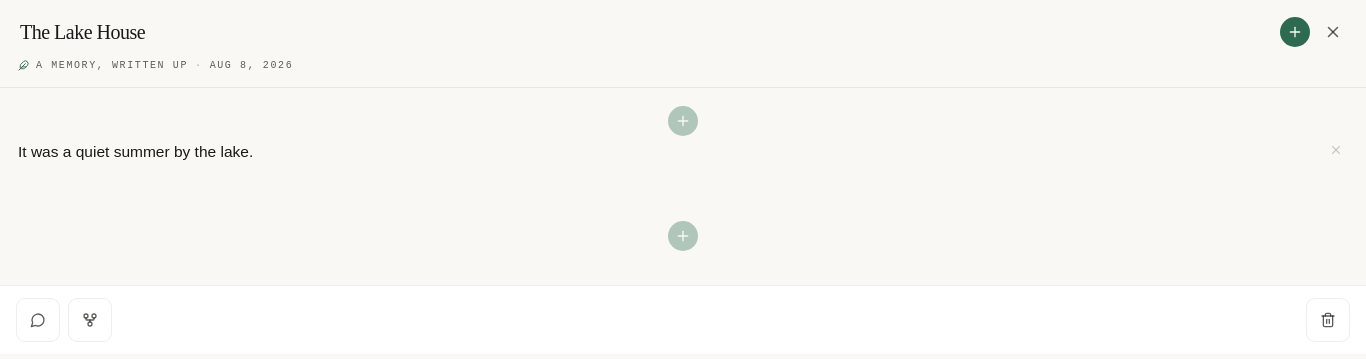
Test: MemoryCardView — header › Escape reverts the draft without committing
Replace the text in the field named "Memory title" with "The Cabin" at (645, 32), box 18,14 -> 1272,50
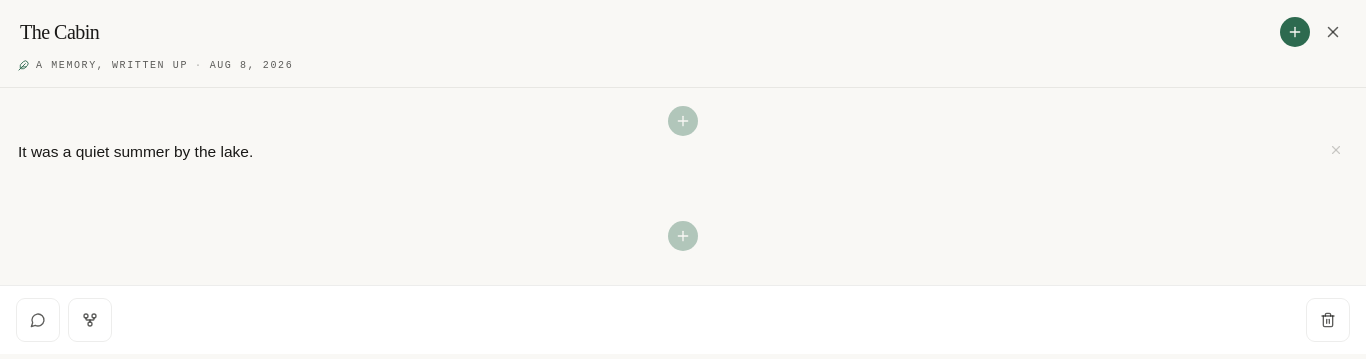
Press Escape in the field named "Memory title", box 18,14 -> 1272,50
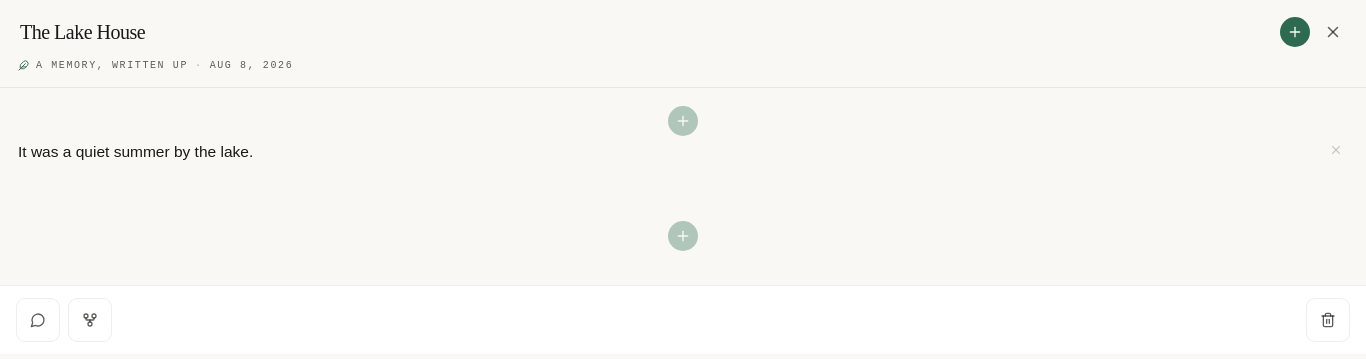
Check: the field named "Memory title" holds "The Lake House", box 18,14 -> 1272,50
